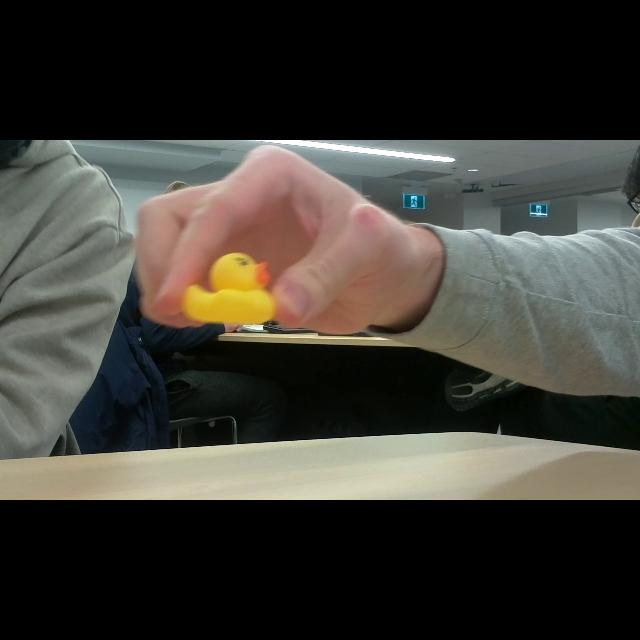duck_regular: (184, 253, 279, 324)
